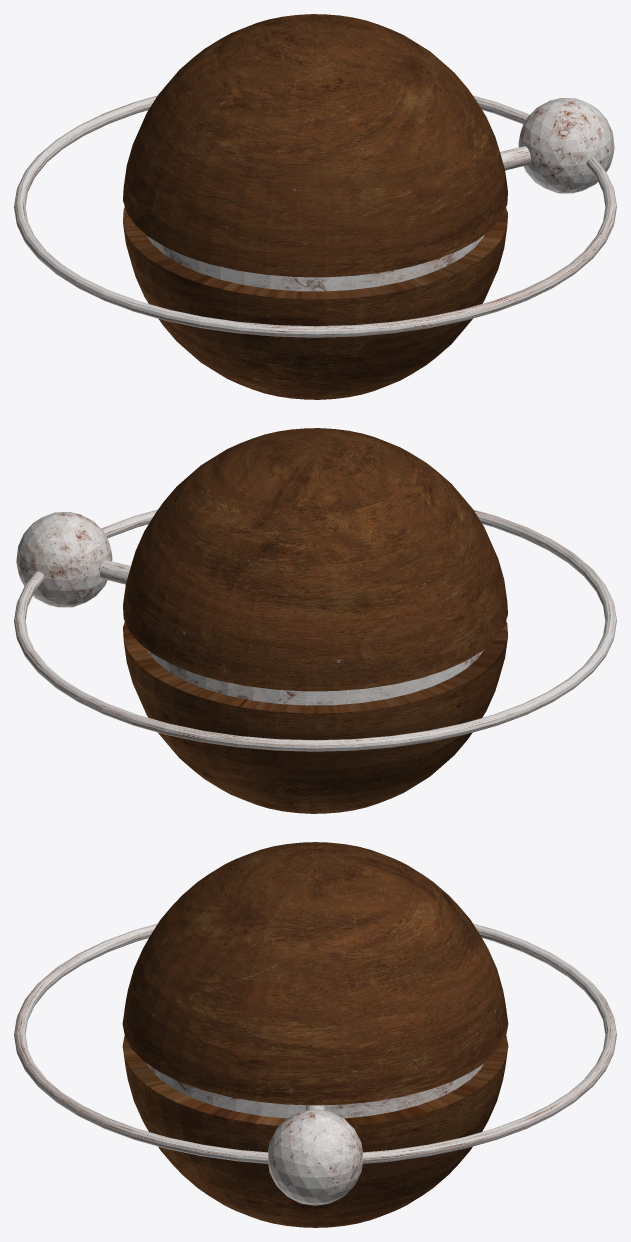
Rendered from Orrery Earth.glb.
3 renders of one model, top to bottom at view 1: azimuth 30°, elevation 25°; view 2: azimuth 150°, elevation 25°; view 3: azimuth 270°, elevation 25°, orthographic.
Parts seen in each view (by area): view 1: Earth; view 2: Earth; view 3: Earth.
Part boxes in pixels (left/top/right/bottom): Earth: left=14, top=14, right=616, bottom=399; Earth: left=14, top=428, right=616, bottom=813; Earth: left=14, top=842, right=616, bottom=1227.
Bounding box in the file's own units: 3.31 × 2 × 3.12.
2 materials, 2 textured.
